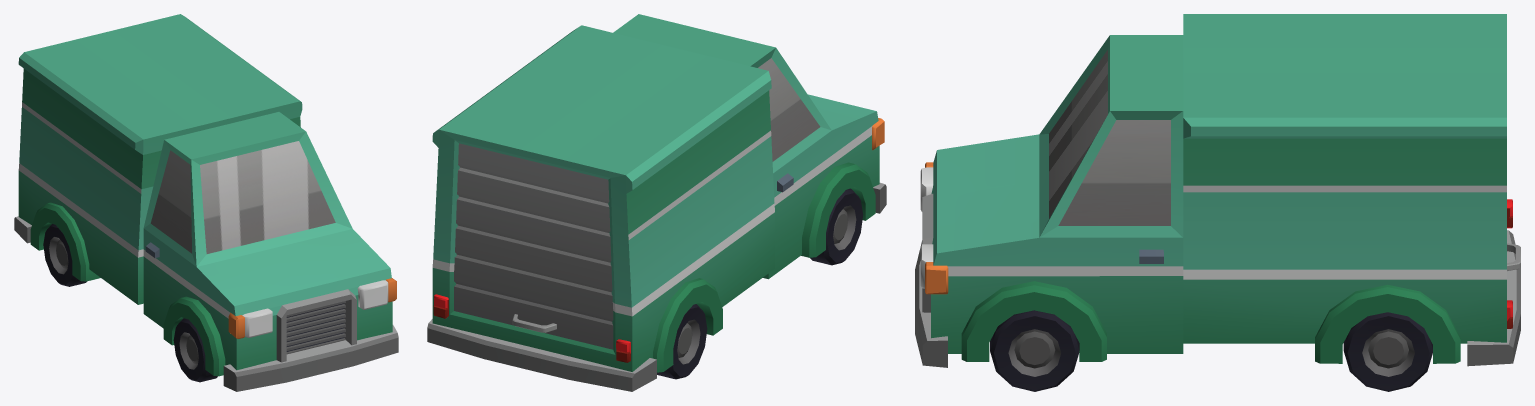
The model's file is PostCar_7.fbx.
The picture shows the model from 3 angles, left to right: view 1: azimuth 30°, elevation 25°; view 2: azimuth 150°, elevation 25°; view 3: azimuth 270°, elevation 25°; orthographic projection. The views are drawn at different scales.
Visible parts, largest first — view 1: PostCar_7, Wheel_FR, Wheel_BR; view 2: PostCar_7, Wheel_FR, Wheel_BR; view 3: PostCar_7, Wheel_FL, Wheel_BL.
Part boxes in pixels (x1,y1,x2,y2): PostCar_7: (14,14,398,391); Wheel_FR: (173,318,217,382); Wheel_BR: (43,224,86,286); PostCar_7: (427,14,886,391); Wheel_FR: (810,188,863,265); Wheel_BR: (657,304,707,379); PostCar_7: (915,14,1520,367); Wheel_FL: (990,310,1079,391); Wheel_BL: (1343,312,1432,391).
Size of the model in its own units: 1.18 by 1.24 by 2.51.
